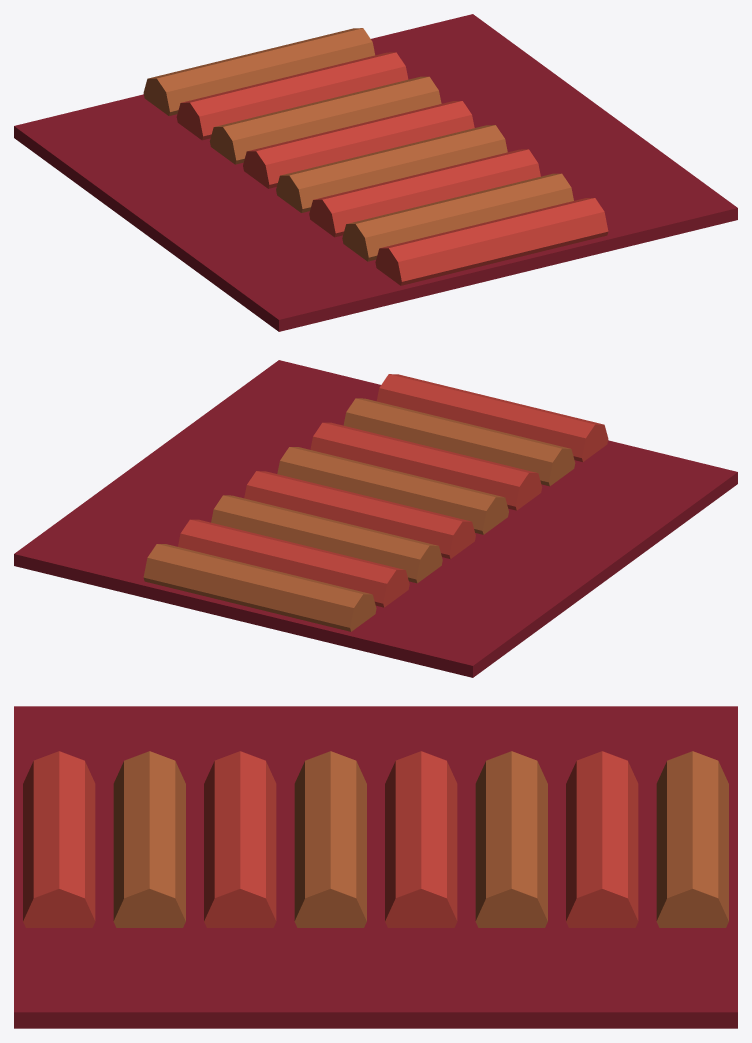
File: PR_Nature_Cati.fbx
The picture shows the model from 3 angles, top to bottom: view 1: azimuth 30°, elevation 25°; view 2: azimuth 150°, elevation 25°; view 3: azimuth 270°, elevation 25°; orthographic projection. The views are drawn at different scales.
Parts seen in each view (by area): view 1: PR_Nature_Cati; view 2: PR_Nature_Cati; view 3: PR_Nature_Cati.
Part boxes in pixels (x1=…): PR_Nature_Cati: x1=14, y1=14, x2=737, y2=331; PR_Nature_Cati: x1=14, y1=360, x2=737, y2=677; PR_Nature_Cati: x1=14, y1=706, x2=737, y2=1028.
Size of the model in its own units: 4 by 0.4 by 4.
